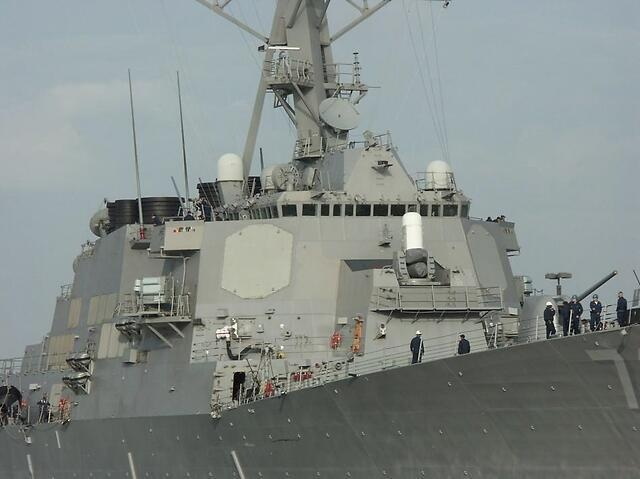warship: (2, 6, 629, 479)
